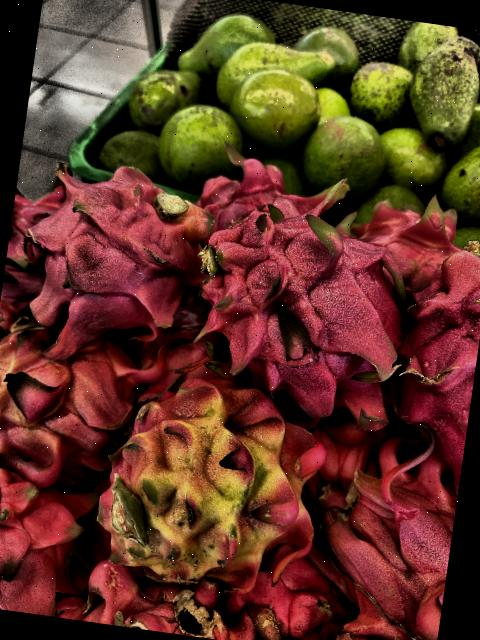buah-naga-belum-matang: (88, 374, 332, 604), (0, 319, 148, 487)
buah-naga-matang: (179, 204, 426, 437), (7, 159, 220, 359), (299, 453, 461, 640), (376, 241, 480, 472), (0, 461, 93, 620)
